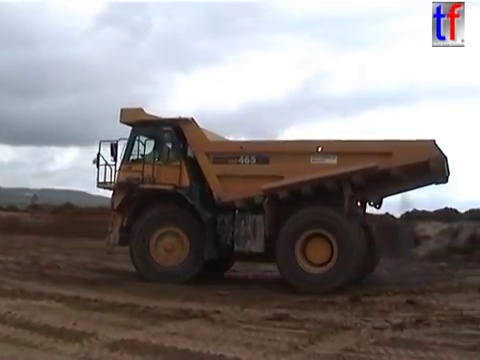truck: (90, 104, 452, 296)
